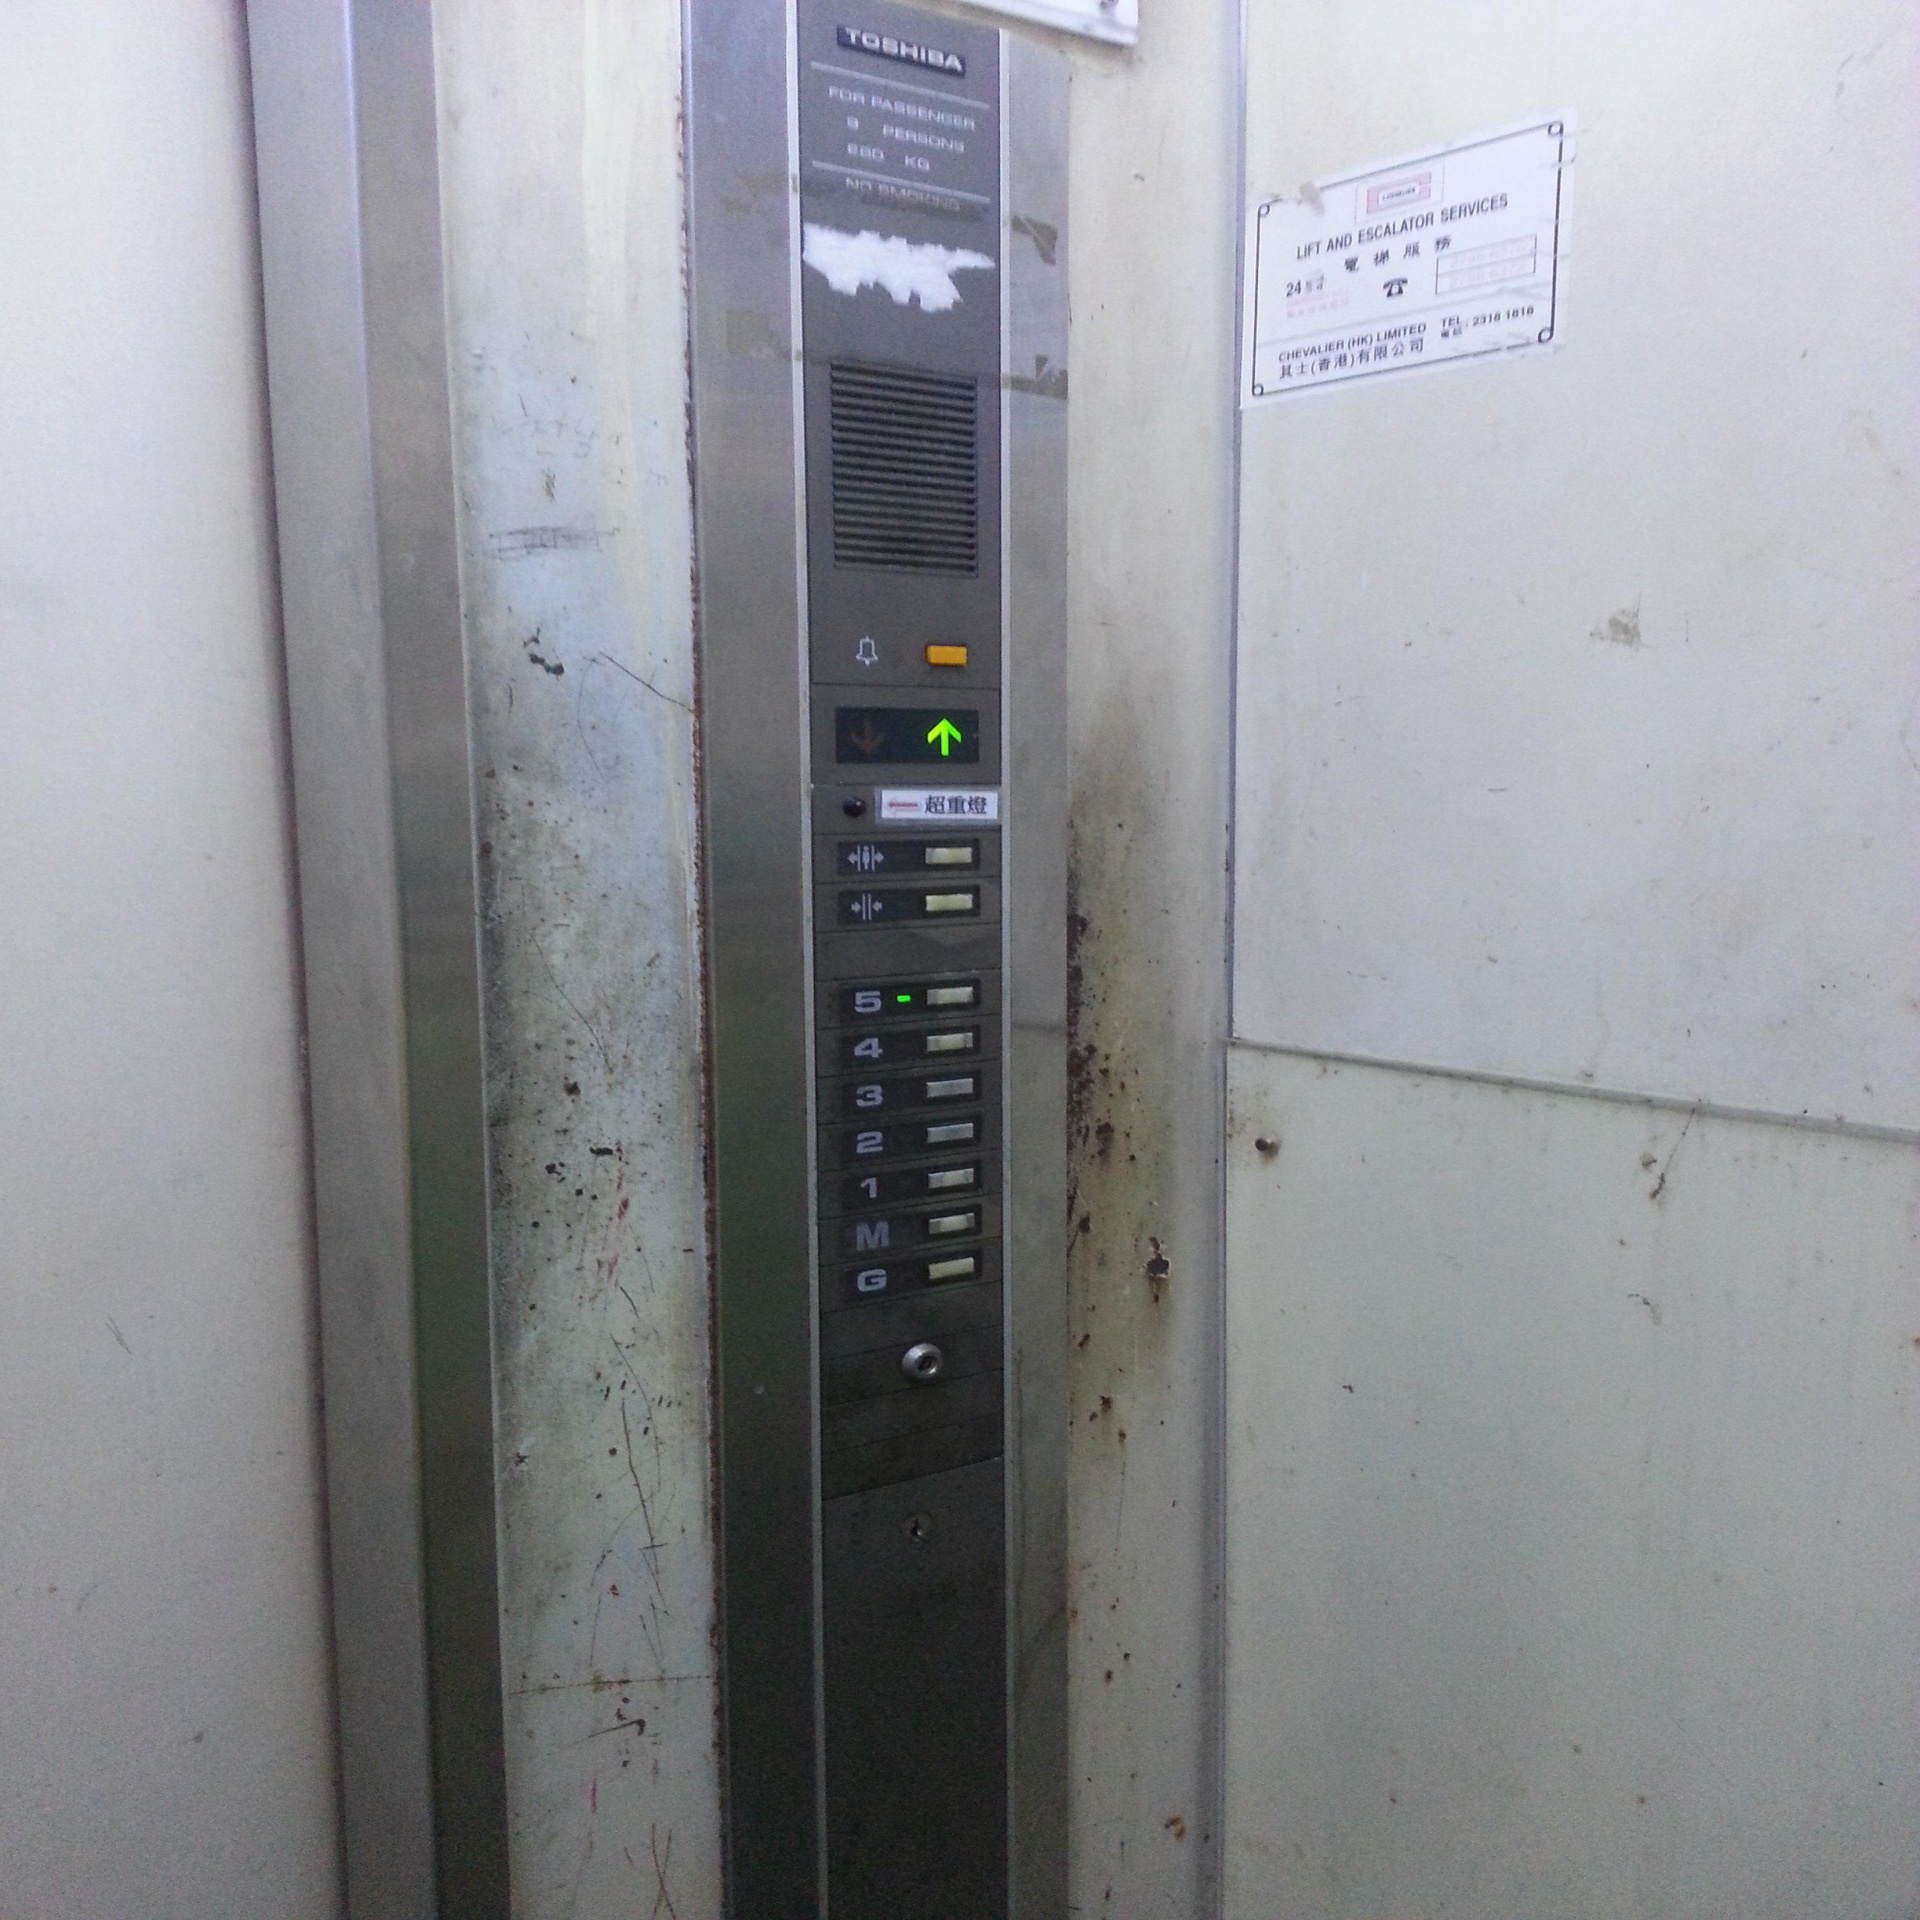1: (835, 1157, 985, 1211)
2: (837, 1111, 985, 1164)
3: (837, 1069, 983, 1116)
4: (835, 1020, 983, 1065)
5: (839, 976, 983, 1022)
G: (839, 1245, 985, 1305)
M: (837, 1201, 985, 1261)
alarm: (839, 633, 986, 673)
close: (833, 883, 985, 927)
indicator: (840, 795, 867, 818)
keyhole: (898, 1342, 942, 1382), (898, 1509, 935, 1544)
open: (833, 833, 983, 876)
